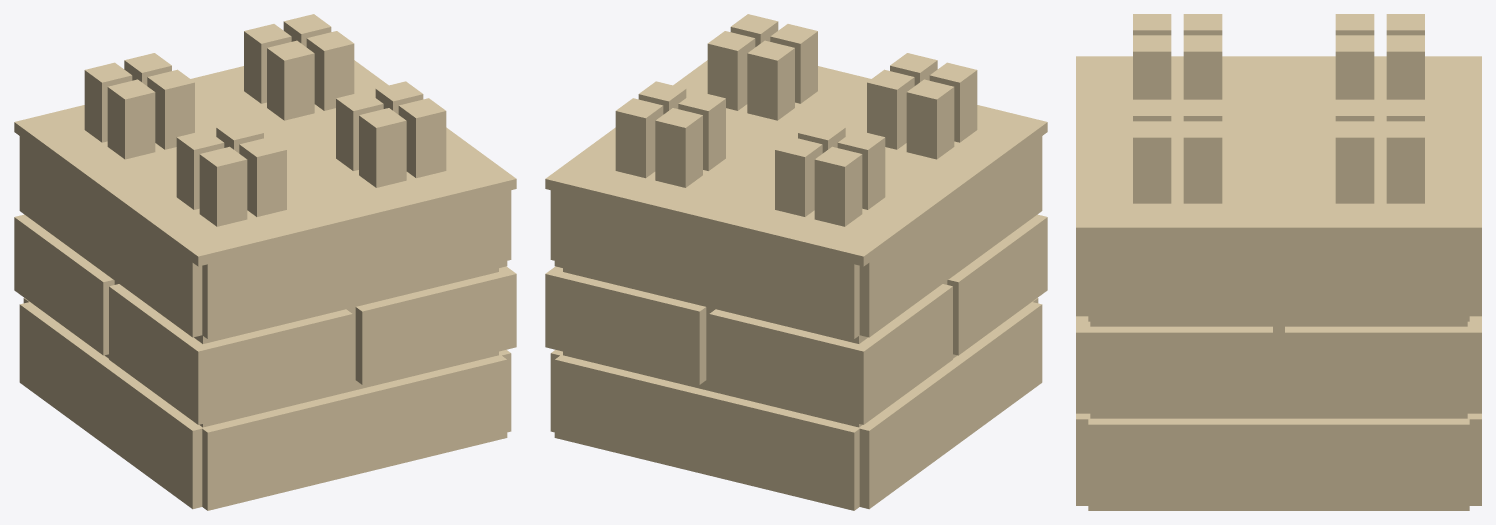
The model's file is wall_course.glb.
3 views of the same model, side by side, from view 1: azimuth 30°, elevation 25°; view 2: azimuth 150°, elevation 25°; view 3: azimuth 270°, elevation 25° (orthographic). The views are drawn at different scales.
Visible parts, largest first — view 1: wall; view 2: wall; view 3: wall.
Part boxes in pixels (x1,y1,x2,y2): wall: [14, 14, 516, 510]; wall: [545, 14, 1047, 510]; wall: [1076, 14, 1481, 510].
Size of the model in its own units: 1 by 0.95 by 1.
